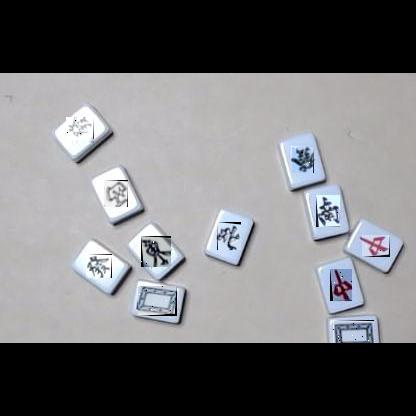1z: (141, 236, 171, 267)
2z: (316, 195, 340, 227)
3z: (104, 180, 128, 207)
4z: (217, 222, 241, 250)
5z: (138, 286, 177, 316), (333, 320, 374, 343)
6z: (66, 118, 94, 144), (86, 254, 112, 278), (291, 146, 314, 173)
7z: (330, 269, 352, 301), (362, 235, 390, 257)
